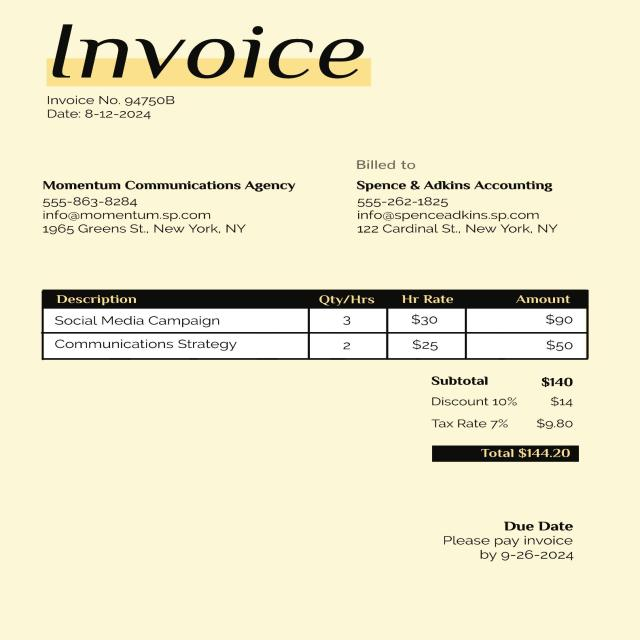paragraph: (36, 14, 377, 90), (32, 169, 306, 251), (343, 158, 571, 250), (415, 376, 592, 466), (436, 510, 590, 568), (37, 92, 182, 124)
table: (37, 278, 596, 366)
